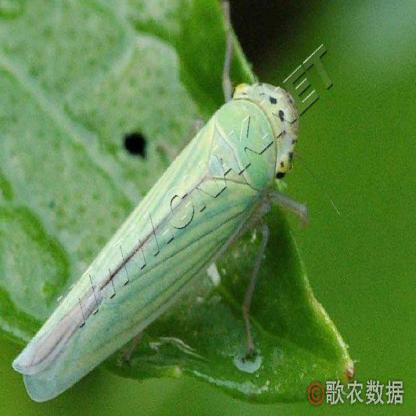Green-Leafhopper: (12, 79, 302, 404)
